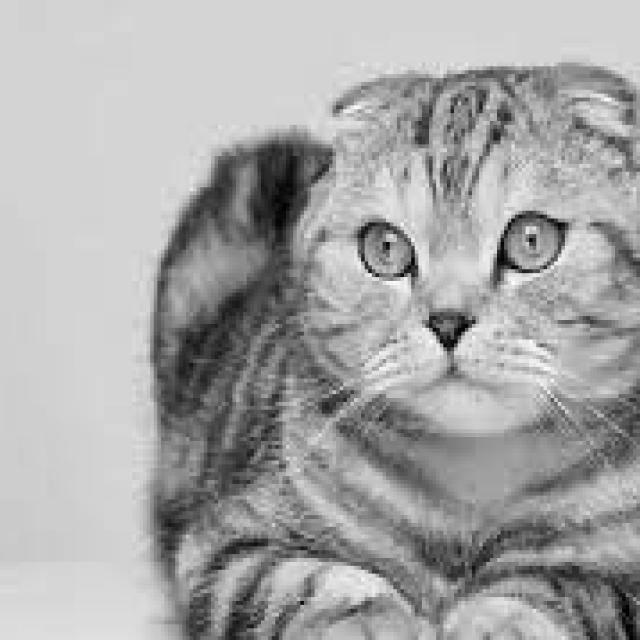scootish: (264, 31, 640, 444)
